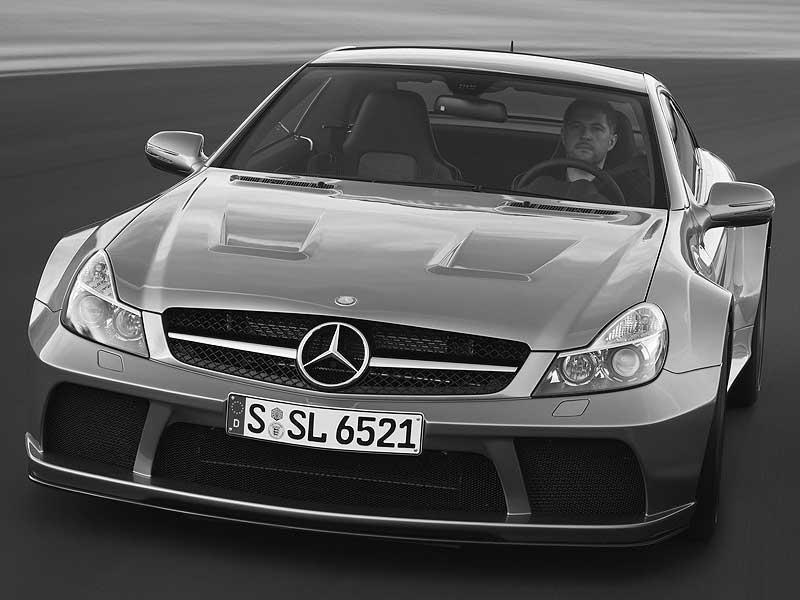car: (25, 46, 775, 555)
